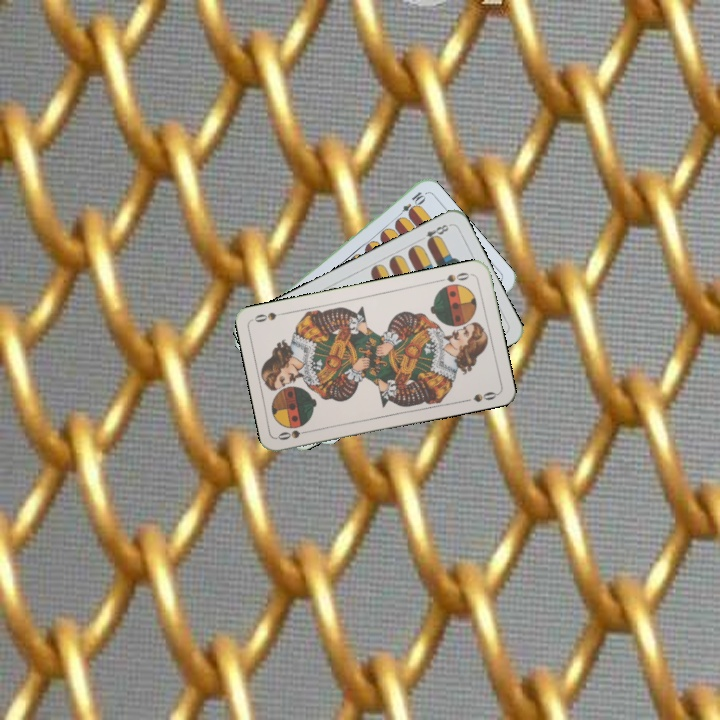E10: (393, 188, 428, 221)
E8: (421, 220, 453, 247)
SO: (274, 426, 315, 443), (434, 268, 472, 285)
